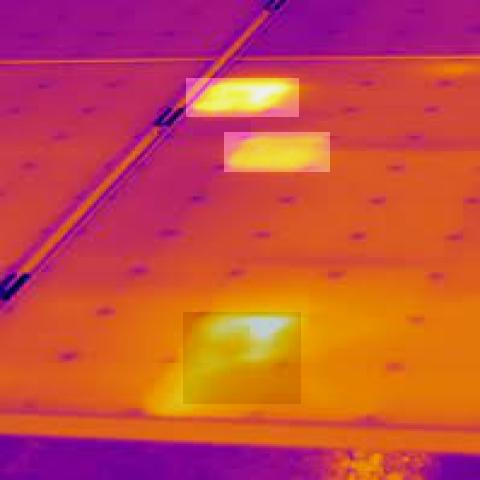fault: (184, 312, 302, 404), (186, 78, 299, 117), (224, 132, 330, 172)
